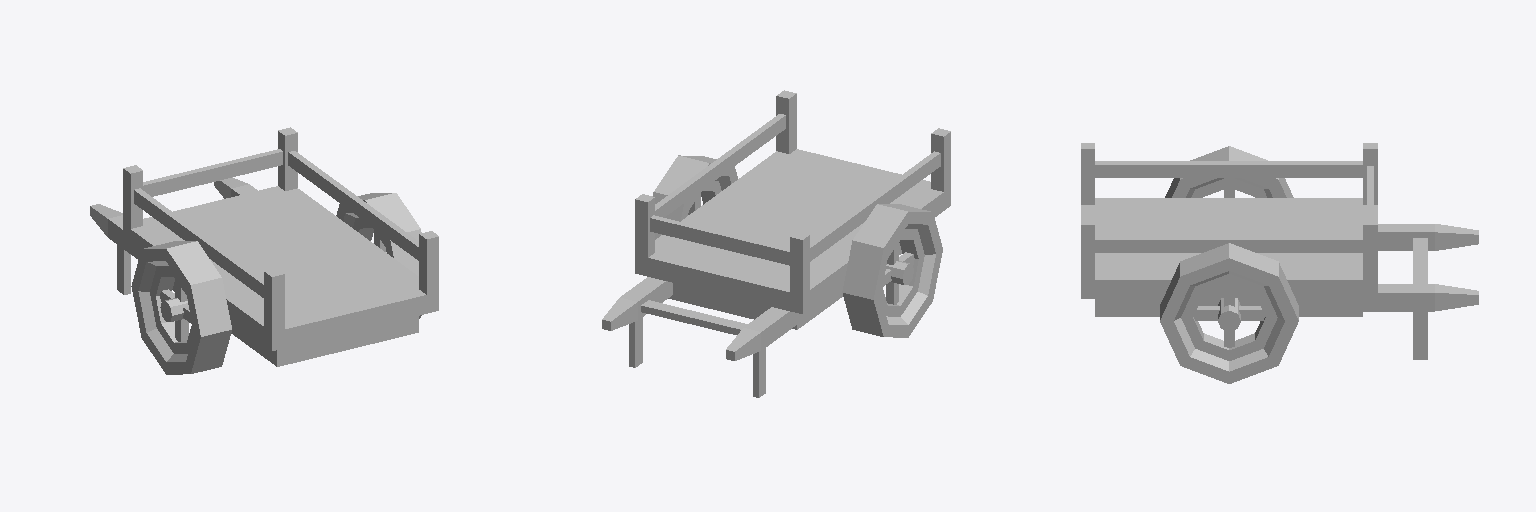
Rendered from cart.obj.
3 views of the same model, side by side, from view 1: azimuth 30°, elevation 25°; view 2: azimuth 150°, elevation 25°; view 3: azimuth 270°, elevation 25° (orthographic).
Visible parts, largest first — view 1: cart, Group; view 2: cart, Group; view 3: cart, Group.
Boxes of the visible parts, <box> form: cart: <box>90,127,438,366</box>; Group: <box>131,193,421,374</box>; cart: <box>602,90,950,397</box>; Group: <box>653,155,942,337</box>; cart: <box>1081,143,1478,359</box>; Group: <box>1160,146,1298,383</box>.
Bounding box in the file's own units: 0.893 × 0.5355 × 1.34.